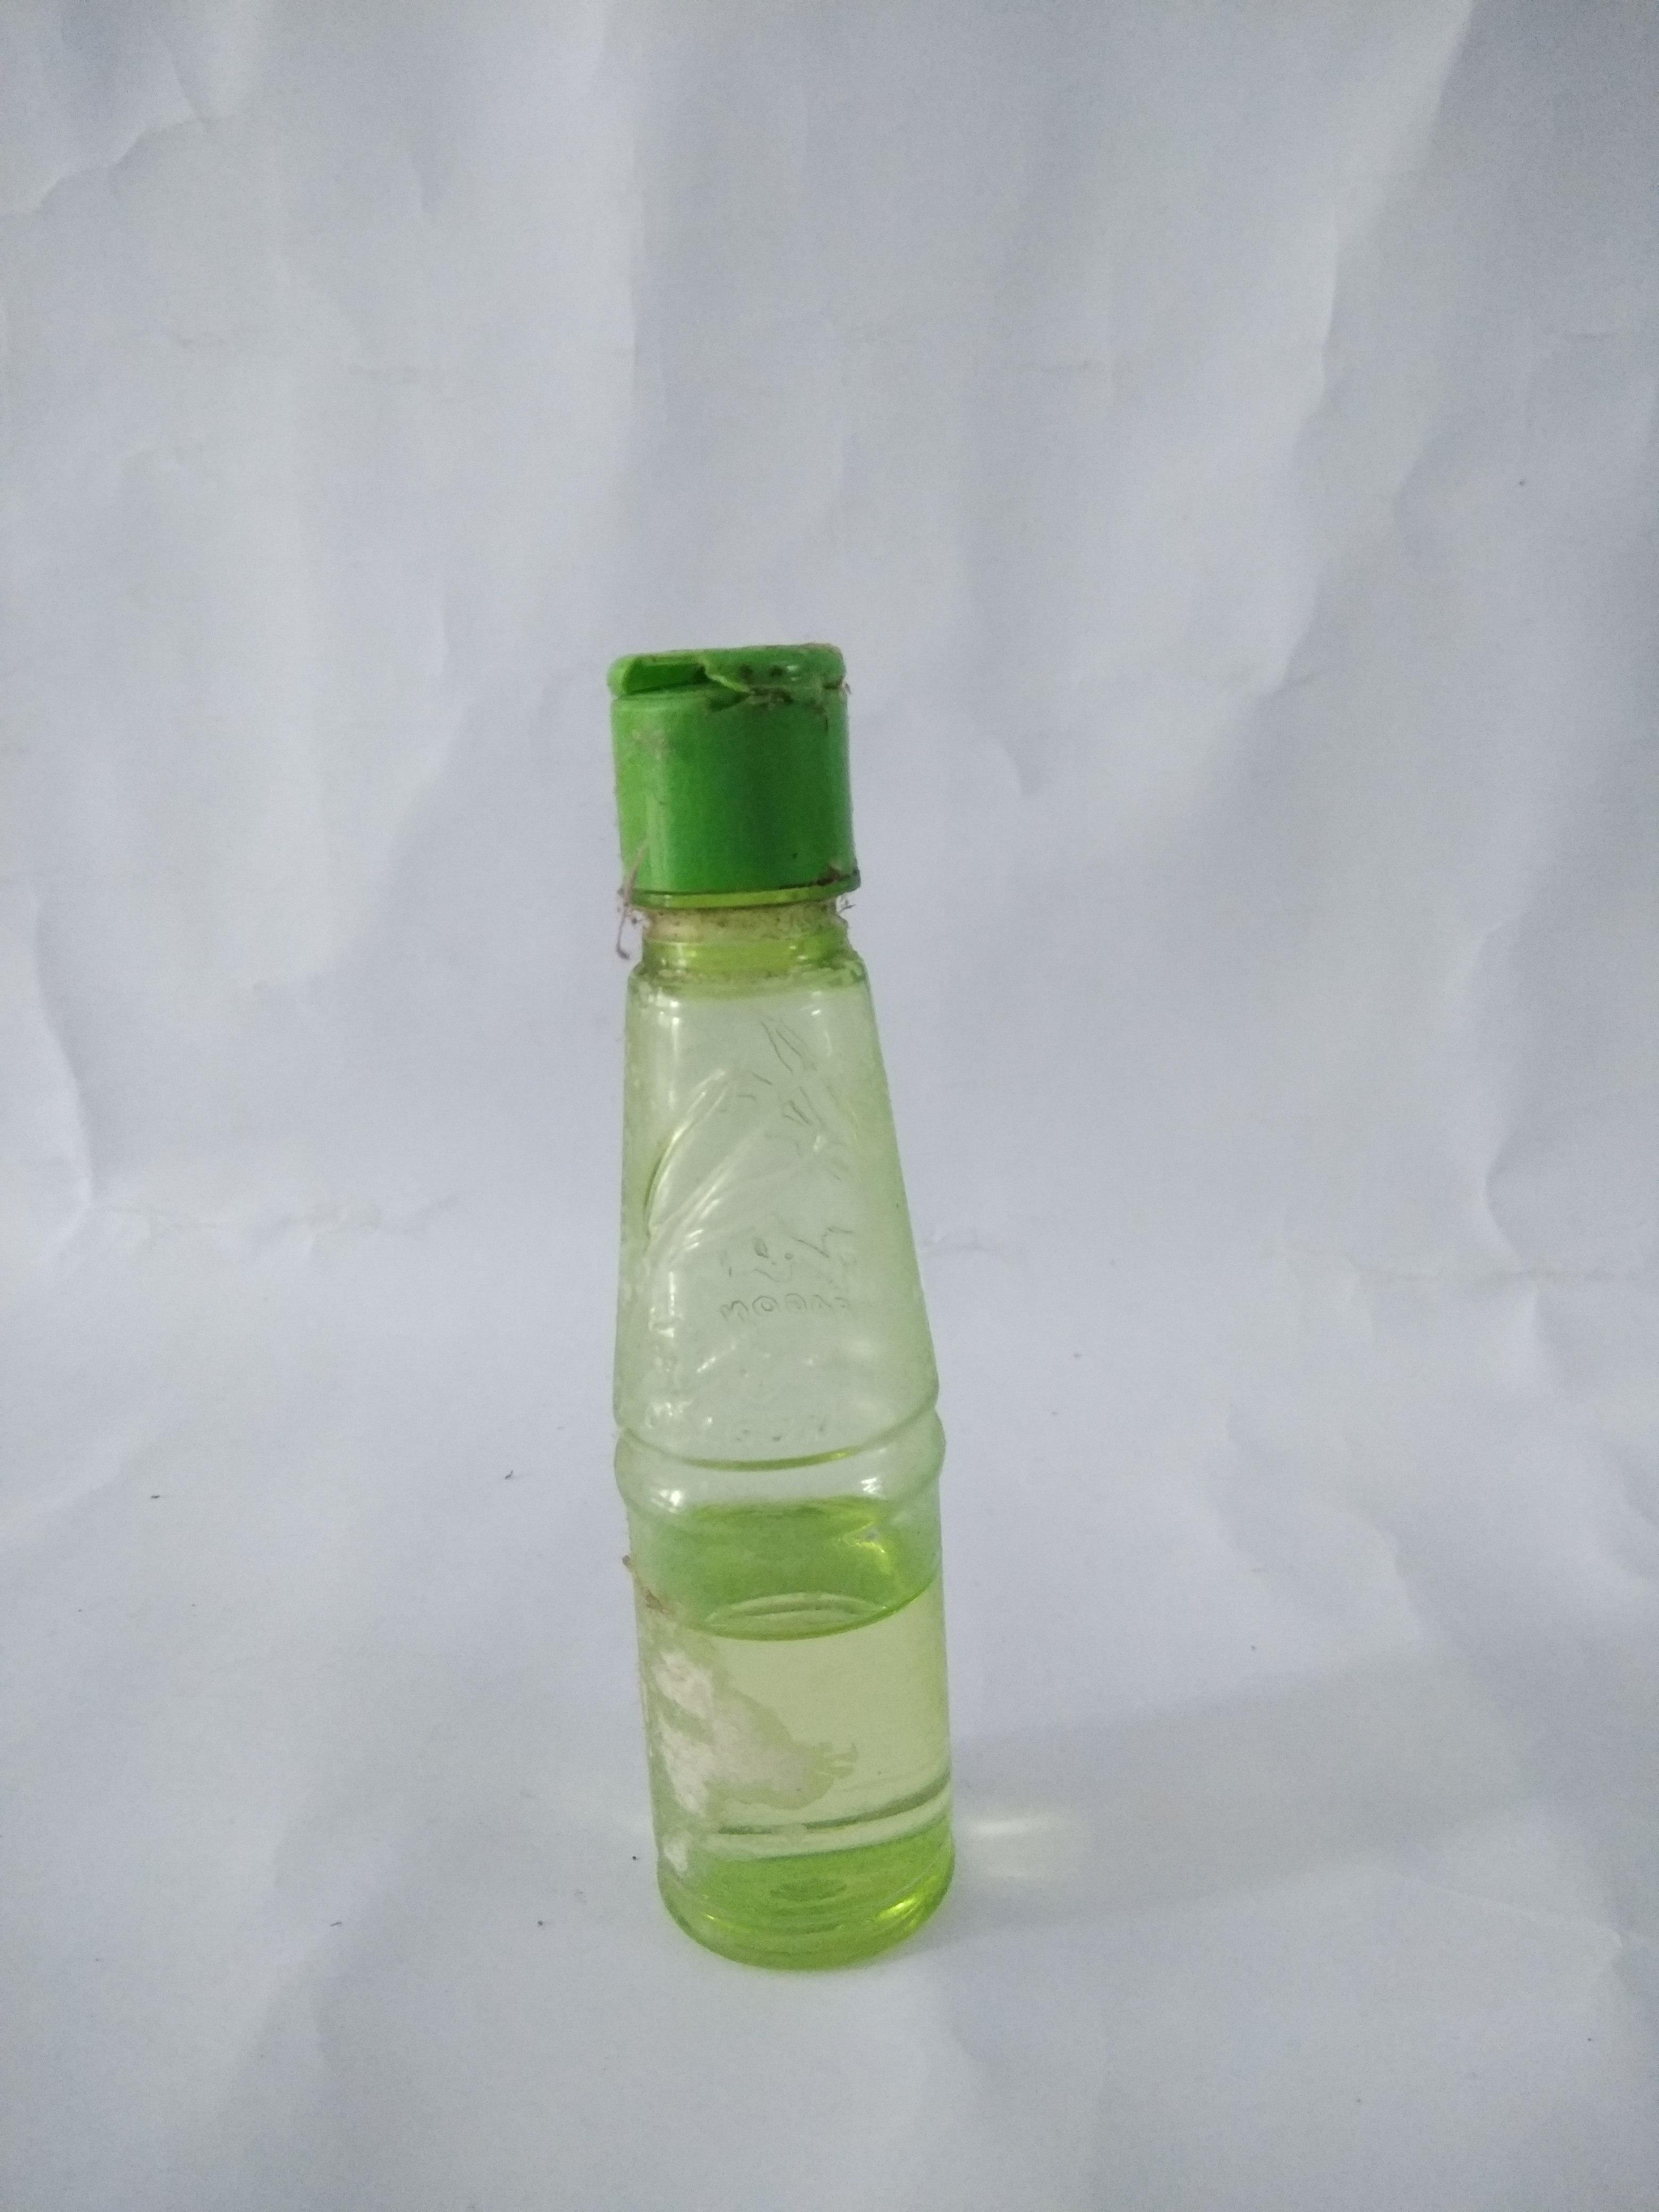HDPE: (512, 528, 925, 921)
PETE: (544, 921, 1100, 2092)
